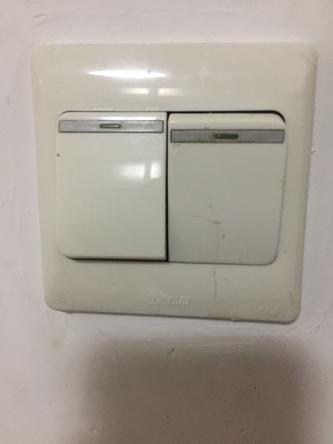switch: (40, 94, 168, 266), (173, 99, 282, 276)
